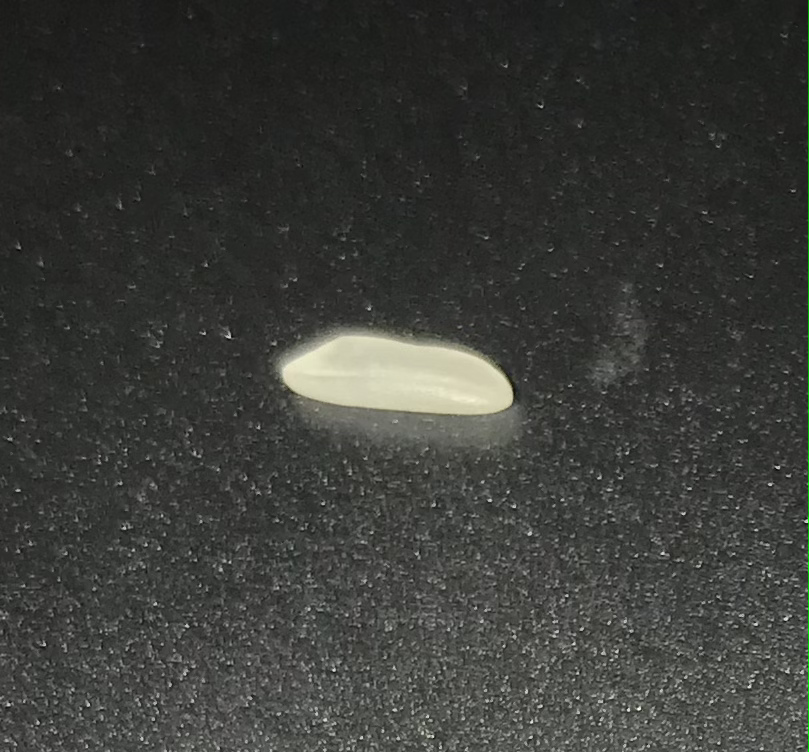Gao Thom My: (268, 327, 519, 428)
